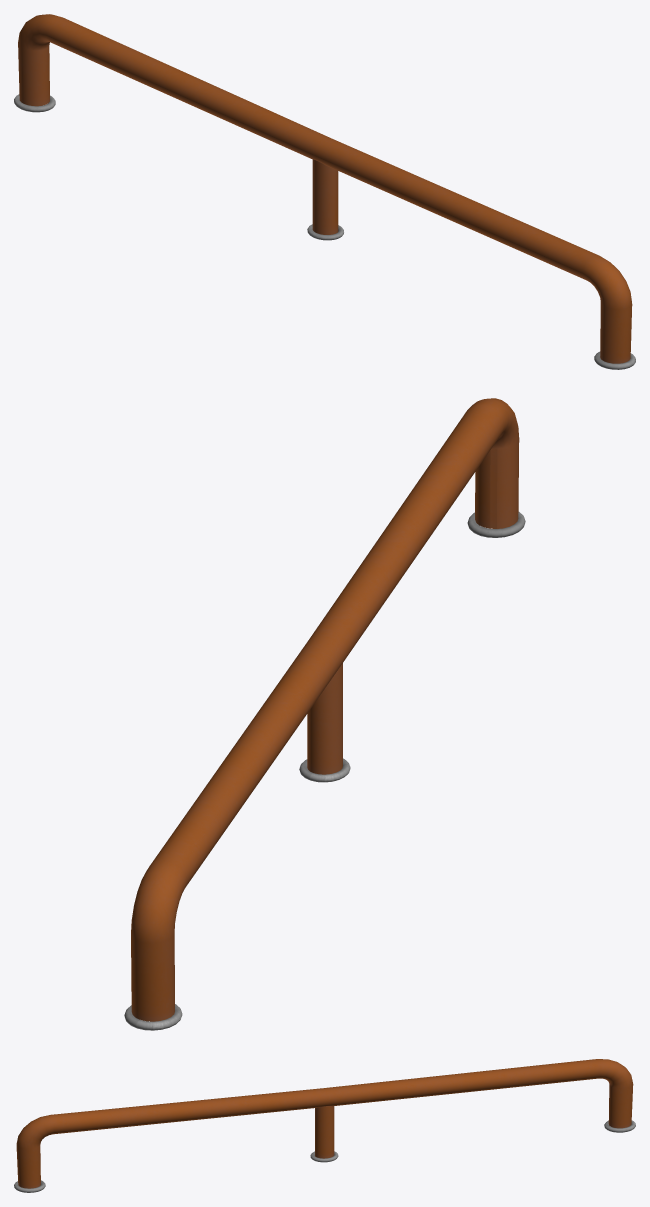
File: SM_075_Guardrail_02_1.fbx
The picture shows the model from 3 angles, top to bottom: view 1: azimuth 30°, elevation 25°; view 2: azimuth 150°, elevation 25°; view 3: azimuth 270°, elevation 25°; orthographic projection. The views are drawn at different scales.
Parts seen in each view (by area): view 1: SM_075_Guardrail_02_1; view 2: SM_075_Guardrail_02_1; view 3: SM_075_Guardrail_02_1.
Part boxes in pixels (box(x1,y1,x2,y2)): SM_075_Guardrail_02_1: box(14, 14, 635, 369); SM_075_Guardrail_02_1: box(124, 398, 525, 1030); SM_075_Guardrail_02_1: box(14, 1059, 635, 1192).
Bounding box in the file's own units: 47.88 × 174 × 21.6.
Materials: 1 (1 with a texture image).
